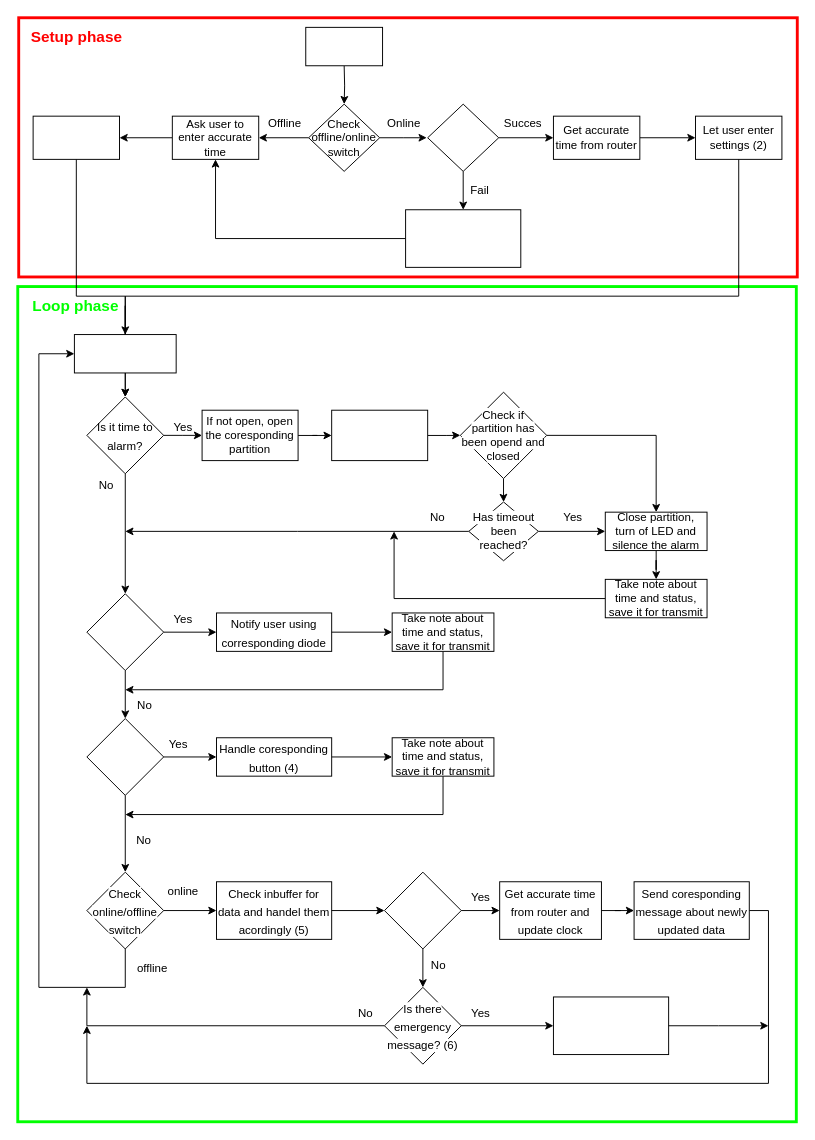
This 815x1140 diagram has some shape labels left out. The shapes that lost their labels are listed below. From the top down, each one's centre as x and y in pixels, then its label:
At (x=344, y=46): "Init device I/O (0)".
At (x=76, y=137): "Let the user setup the device. (1)".
At (x=463, y=137): "Try to connect to wifi".
At (x=463, y=238): "Activate access point for user to connect. Continue as offline device.".
At (x=124, y=353): "Check internal Arduino timer and update time".
At (x=379, y=435): "If not lighted, light corresponding diode and soud the alarm".
At (x=125, y=632): "Has been opened forbiden partition?".
At (x=125, y=756): "Has been some user button activated? (3)".
At (x=422, y=910): "Has period been reached?".
At (x=610, y=1025): "Send data, that has been marked as emergency".
